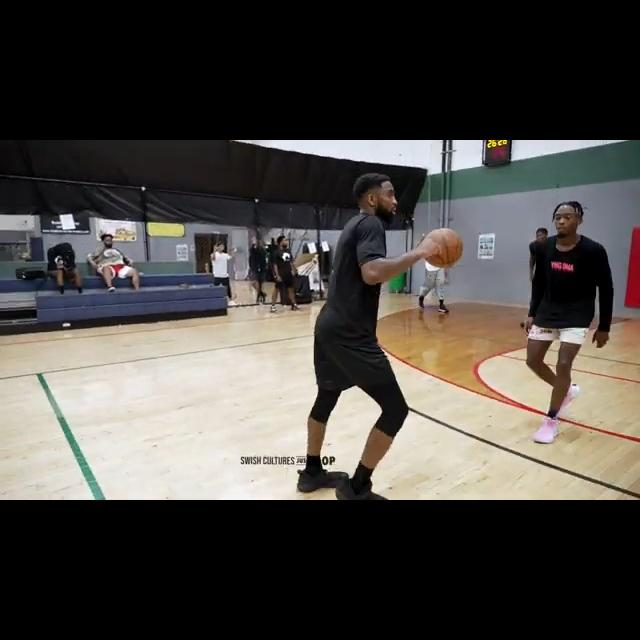basketball: (423, 227, 465, 269)
